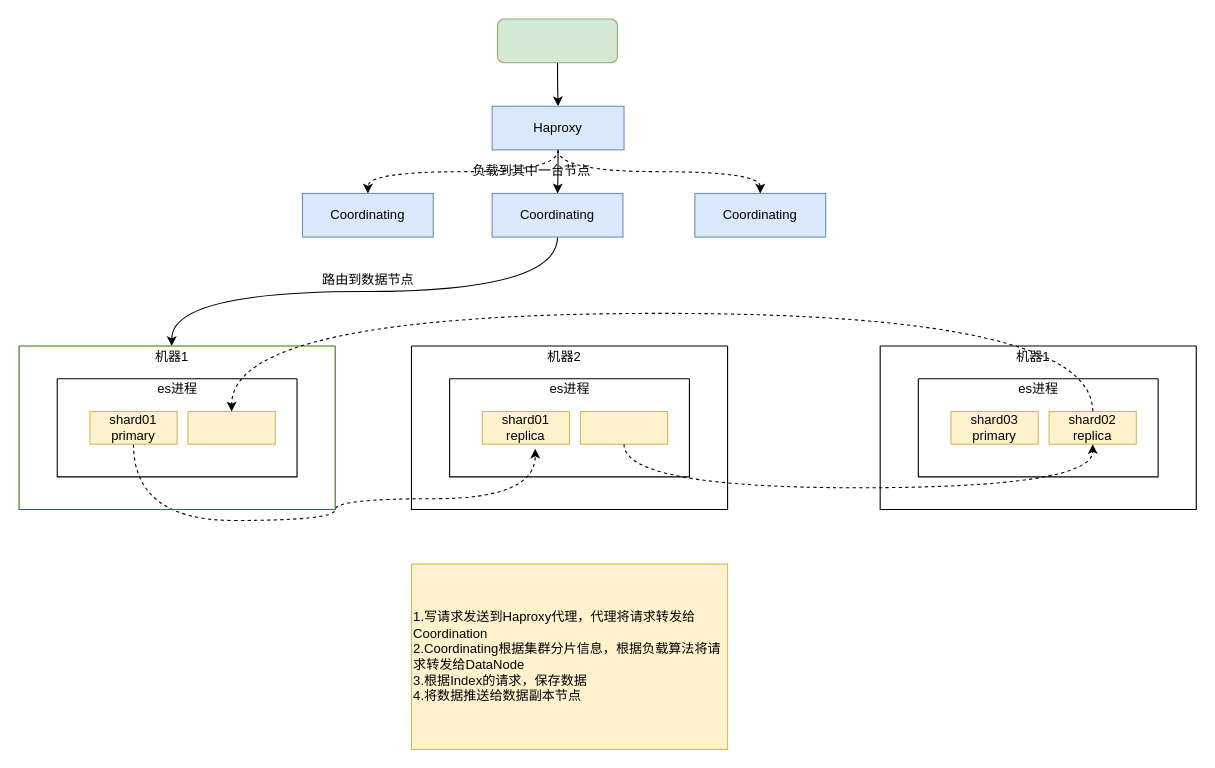
This 1215x768 diagram has some shape labels left out. Here are the shapes that lost their labels. From the top down, the centre of each, then its label:
the point at 556,40: 写请求
the point at 231,427: shard03 replica
the point at 623,427: shard02 primary
